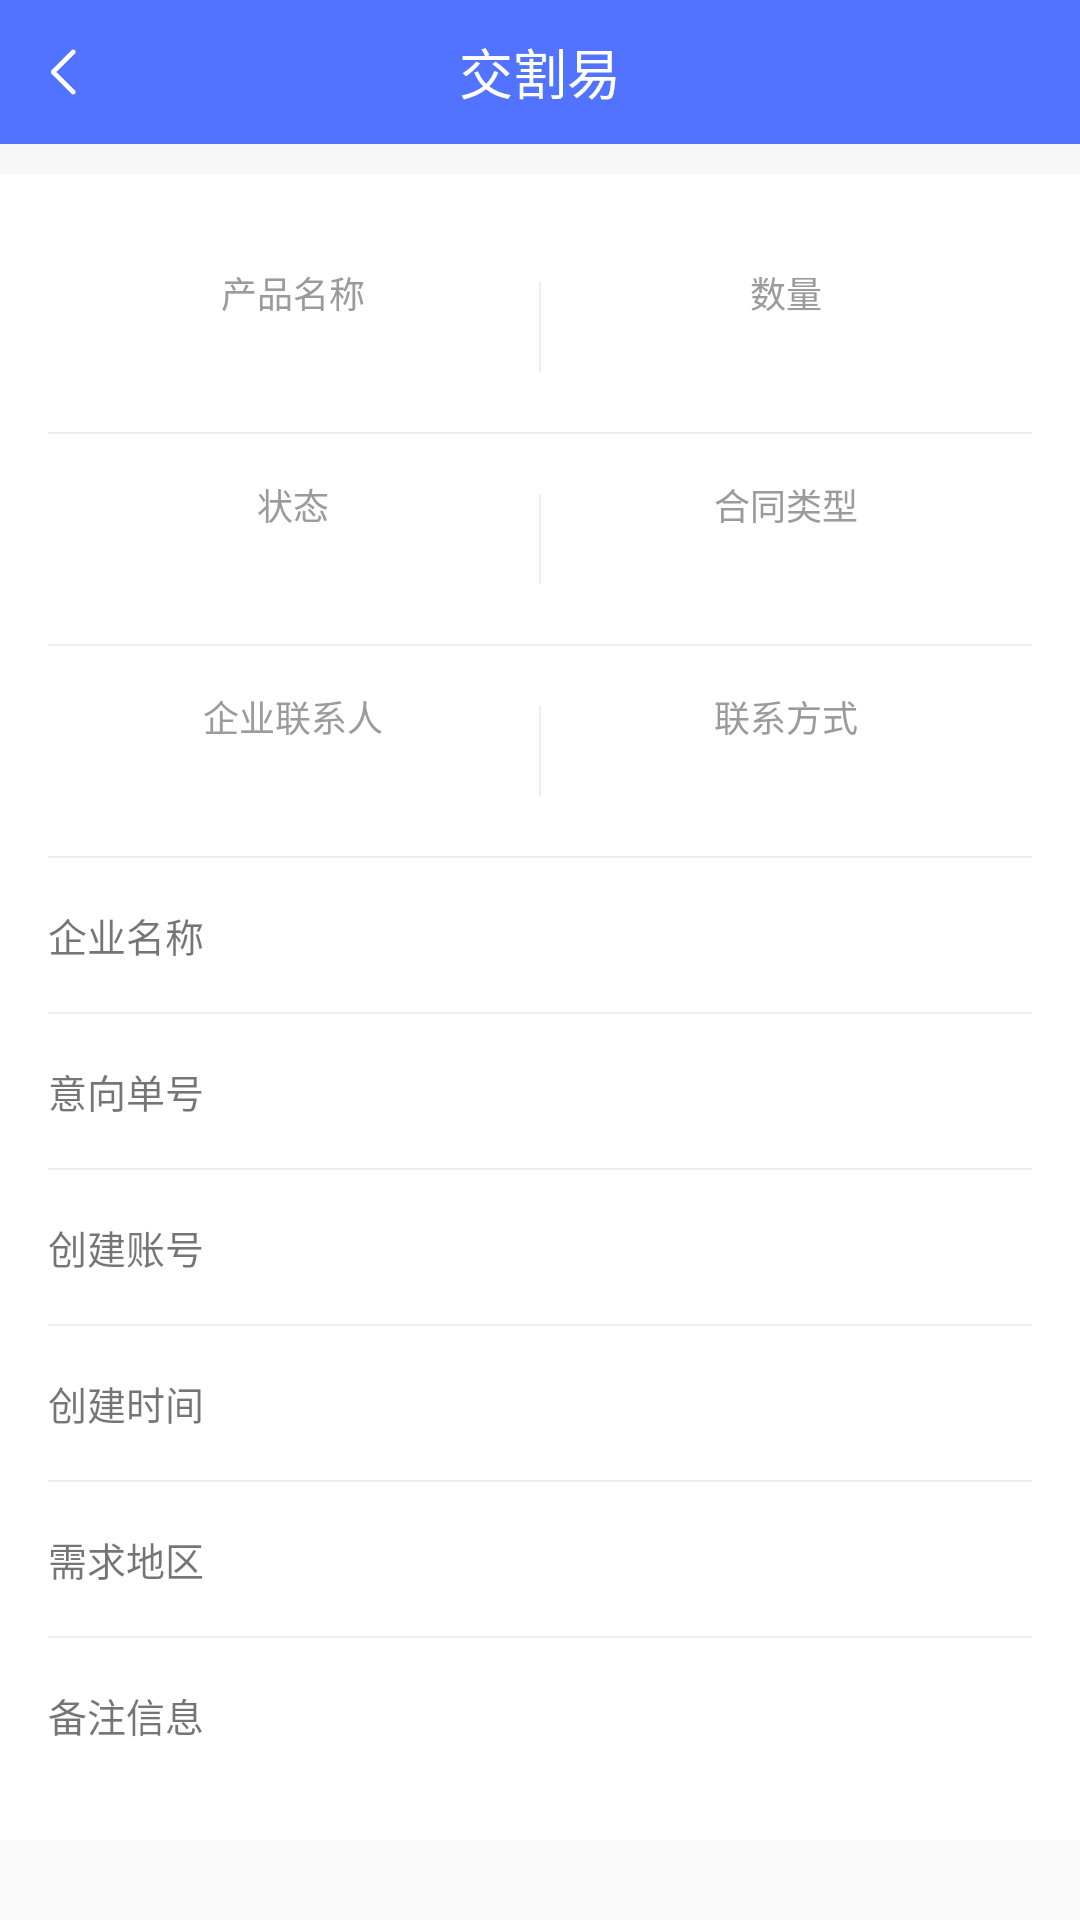

Locate icon controls on the screen. Image size 1080 × 1920, boxes as (x1, y1, x2, y2).
left arrow: (51, 49, 76, 95)
